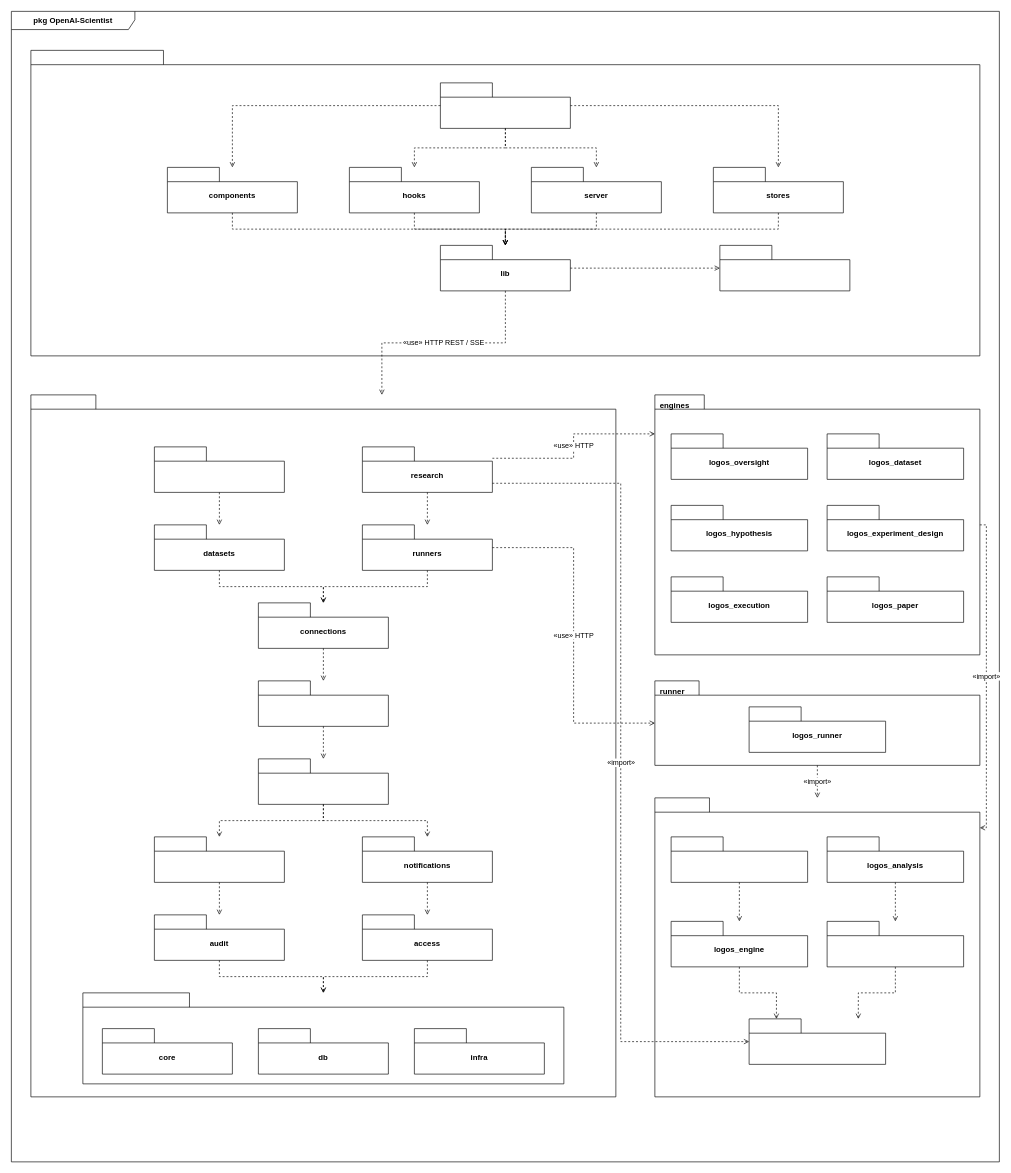
Image size: 1011x1173. Some labels were removed from this diagram. Each missing label, with the box of its shape:
ai-research-platform-fe: (30, 50, 980, 356)
app: (440, 82, 570, 128)
identity: (154, 836, 284, 882)
integrations: (258, 758, 388, 804)
logos_contract: (748, 1018, 886, 1064)
logos_discovery: (670, 836, 808, 882)
logos_tables: (826, 921, 964, 967)
management: (30, 394, 616, 1097)
monitoring: (154, 446, 284, 492)
packages: (654, 797, 980, 1097)
projects: (258, 680, 388, 726)
types: (719, 245, 850, 291)
«layer» foundation: (82, 992, 564, 1084)
